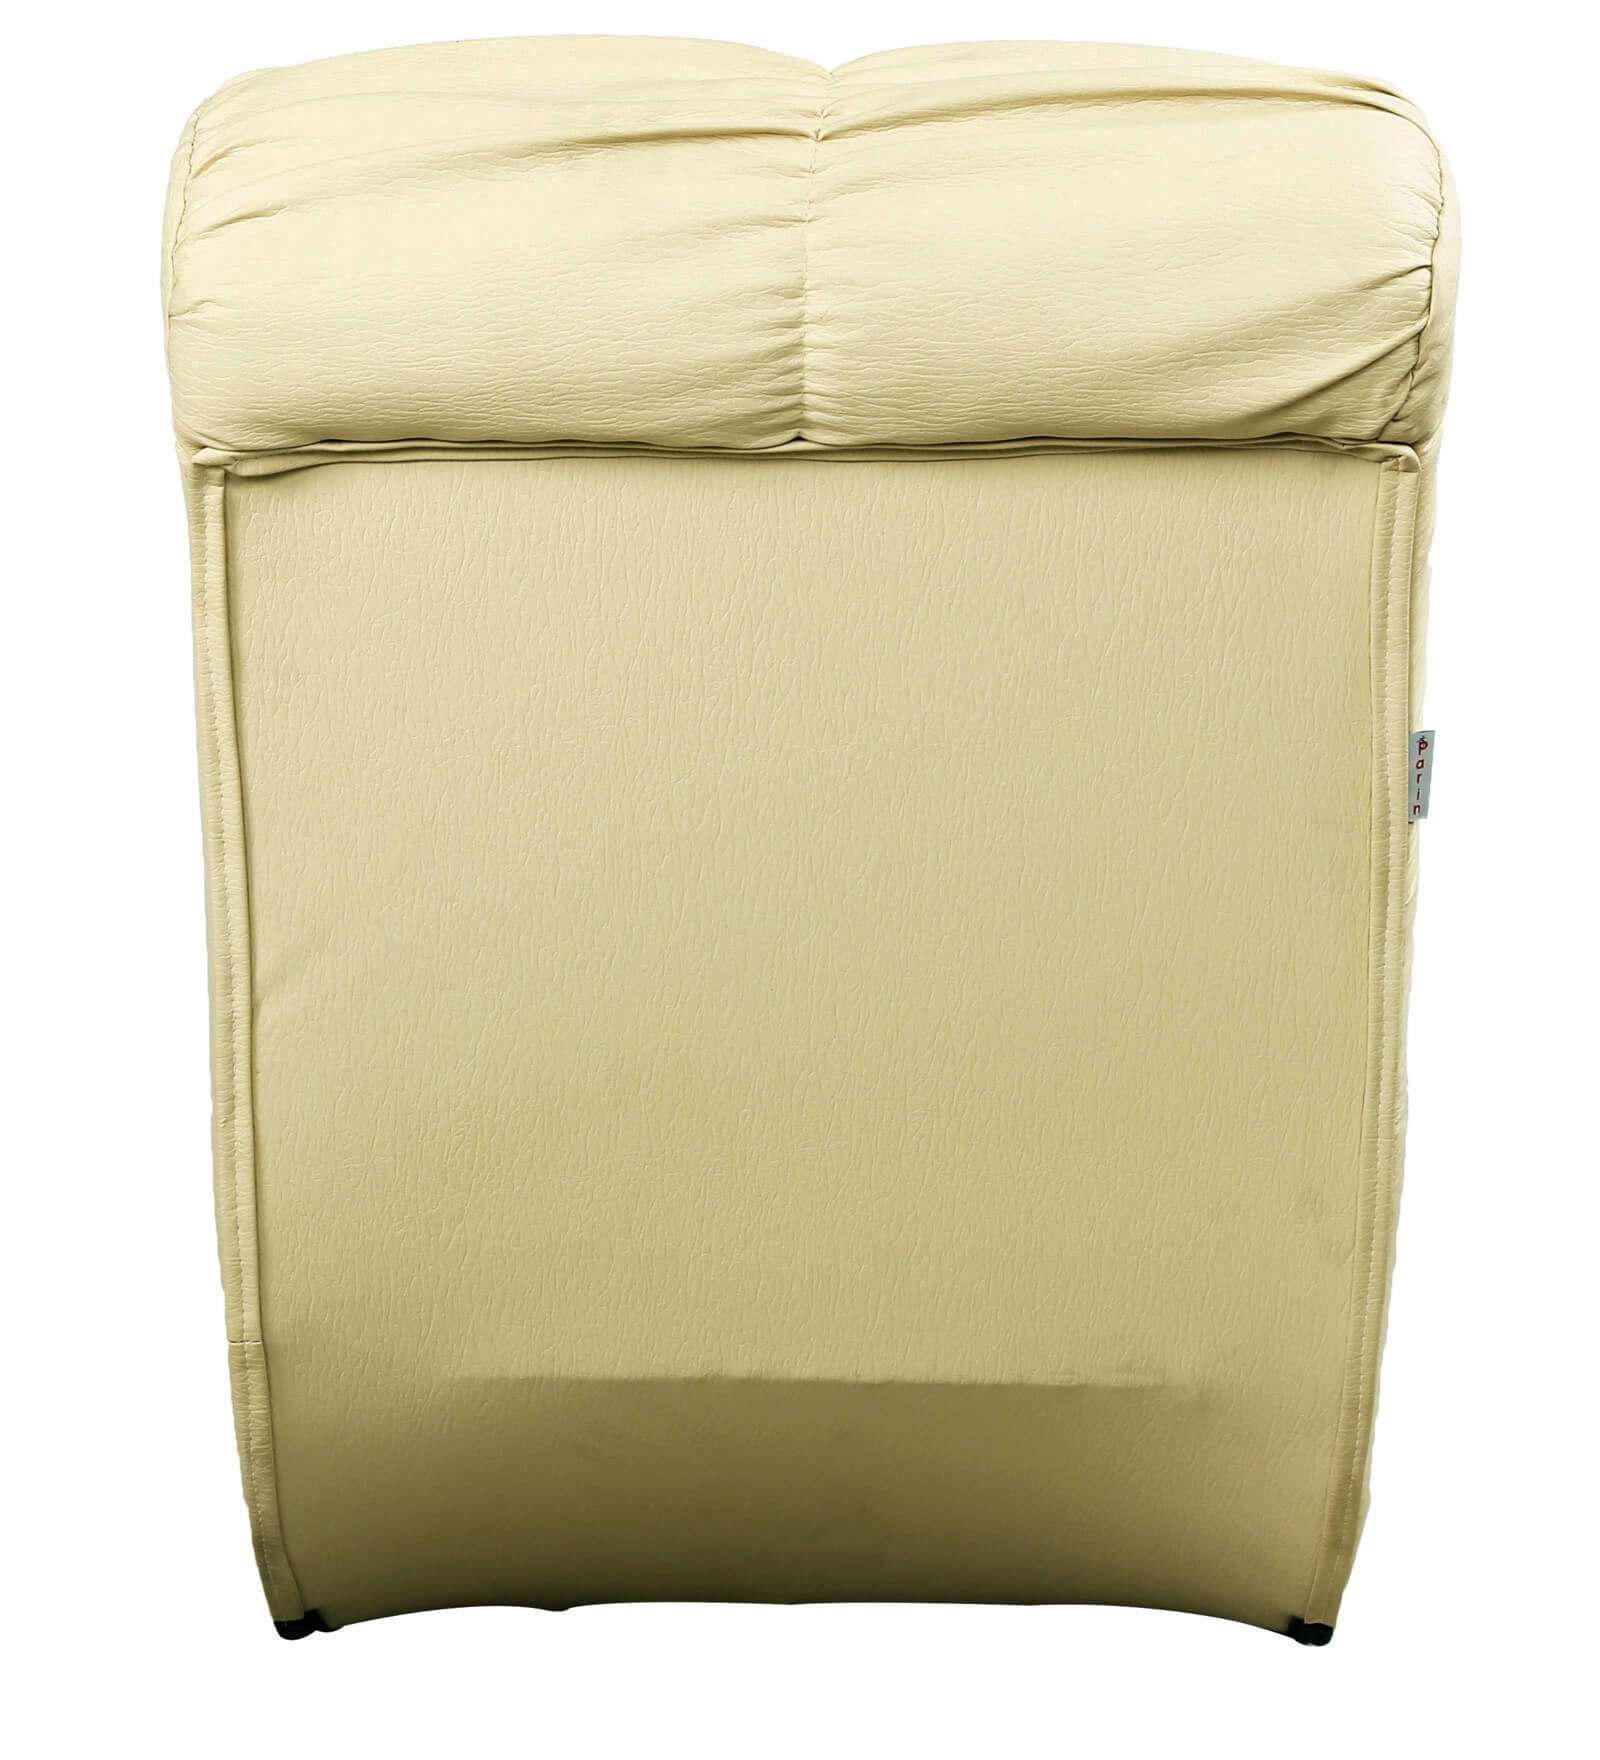Daisy Rocking Chair in Ivory Colour by Parin: (77, 35, 1511, 1752)
